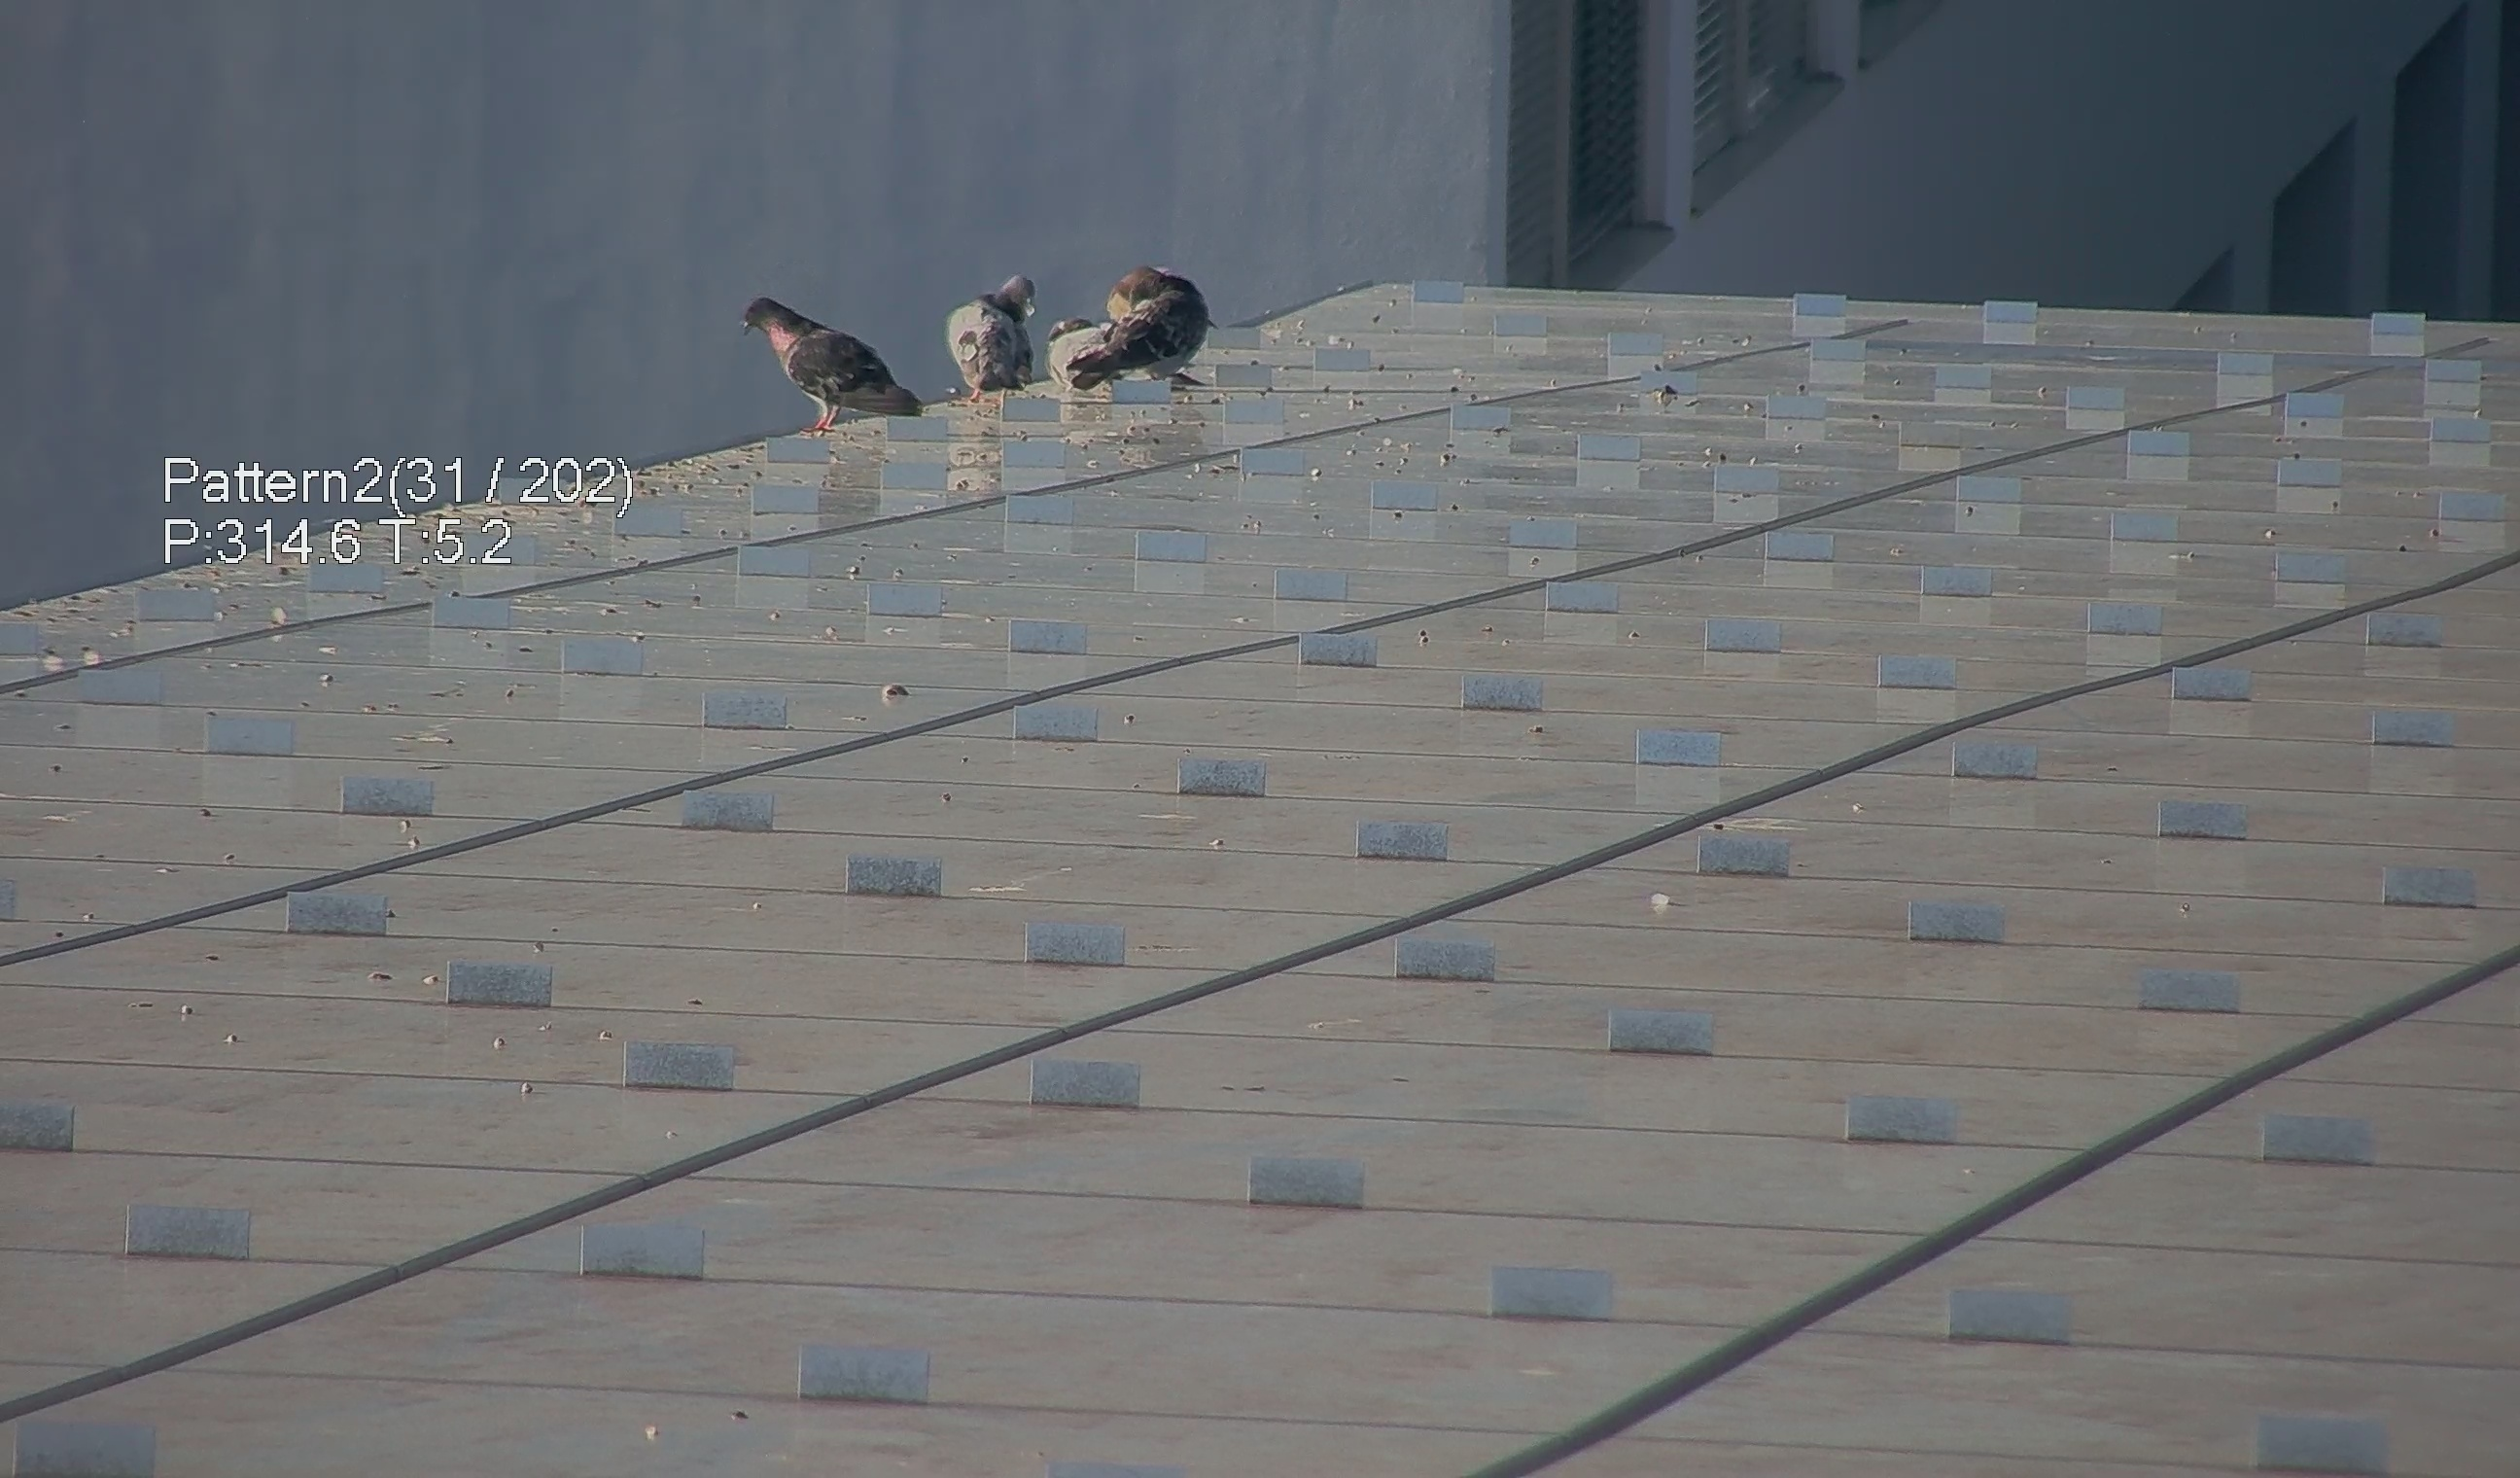Pigeon: (721, 282, 923, 428), (1064, 253, 1220, 398), (934, 262, 1053, 399), (1043, 315, 1127, 401)
